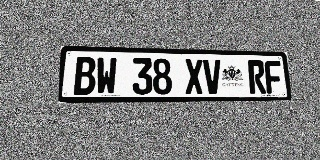3: (133, 58, 152, 95)
8: (153, 58, 172, 94)
B: (74, 57, 96, 95)
F: (264, 61, 283, 94)
R: (248, 60, 266, 94)
V: (203, 59, 222, 94)
W: (96, 57, 117, 95)
X: (184, 59, 204, 94)
